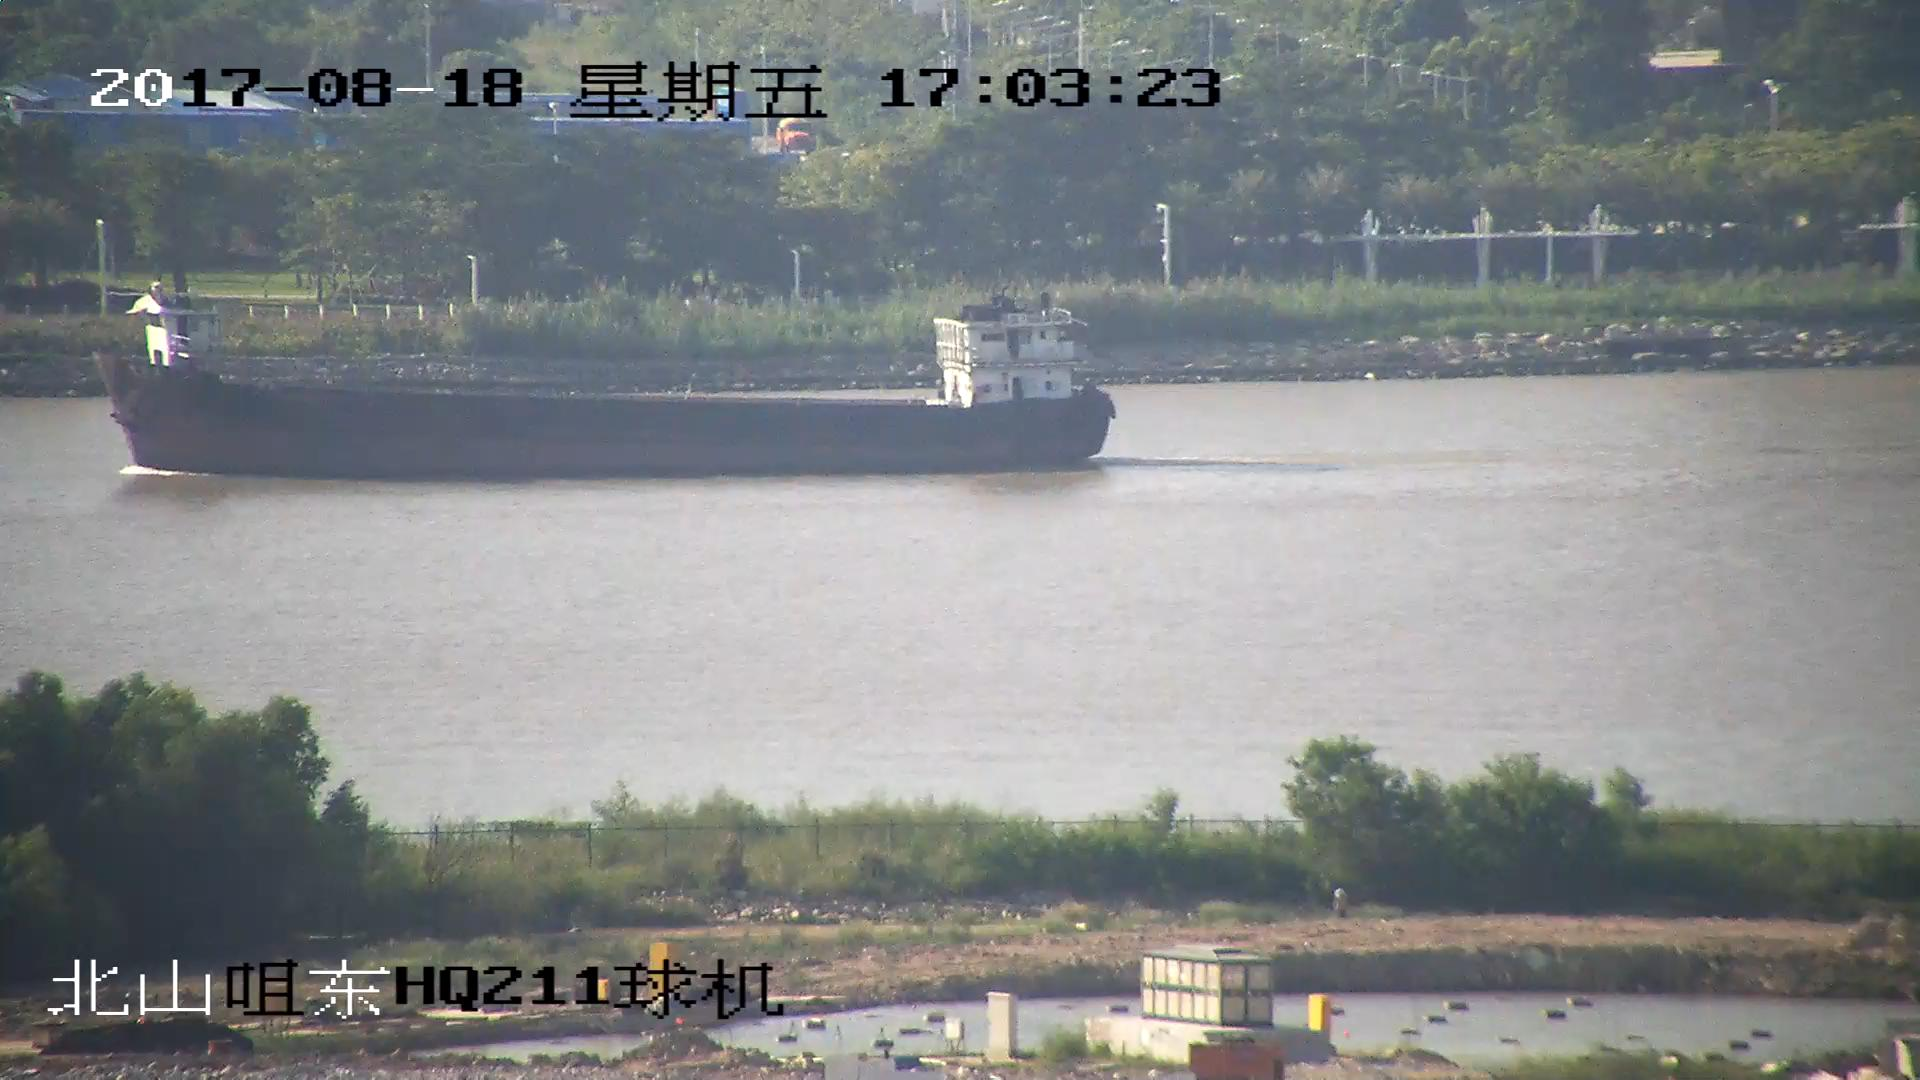general cargo ship: (100, 283, 1115, 479)
